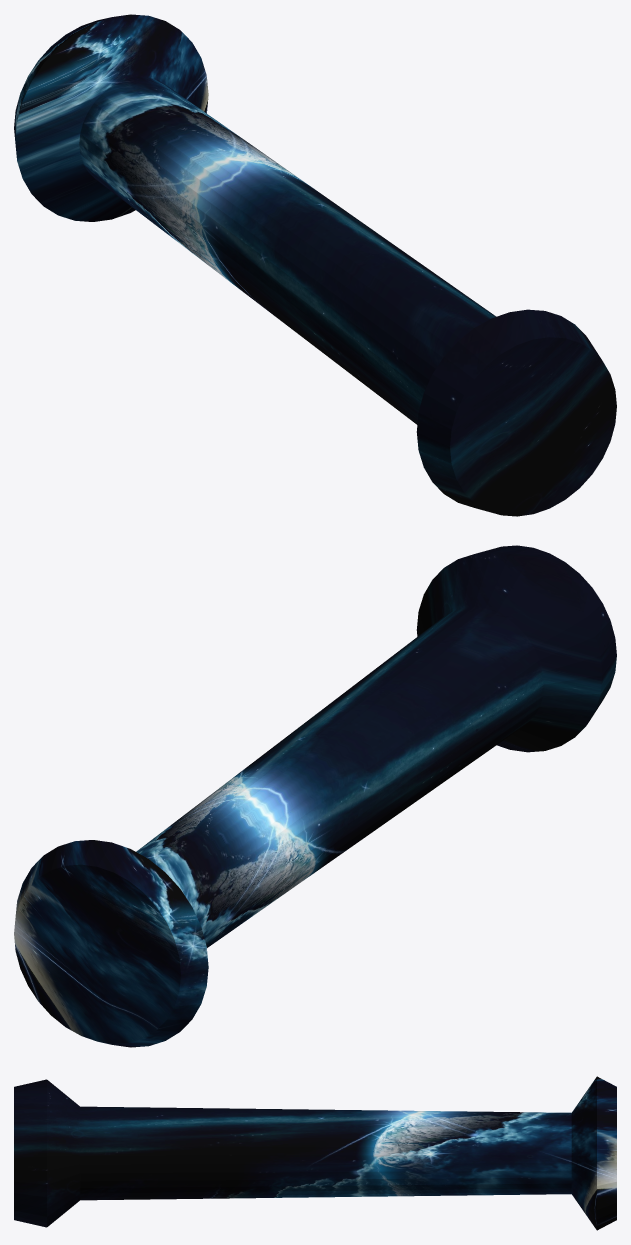
File: spring.obj
3 renders of one model, top to bottom at view 1: azimuth 30°, elevation 25°; view 2: azimuth 150°, elevation 25°; view 3: azimuth 270°, elevation 25°, orthographic. The views are drawn at different scales.
Visible parts, largest first — view 1: Cylinder; view 2: Cylinder; view 3: Cylinder.
Part boxes in pixels (left/top/right/bottom): Cylinder: left=14, top=14, right=616, bottom=516; Cylinder: left=14, top=545, right=616, bottom=1047; Cylinder: left=14, top=1076, right=616, bottom=1230.
Size of the model in its own units: 1.78 by 1.78 by 6.97.
Materials: 1 (1 with a texture image).
